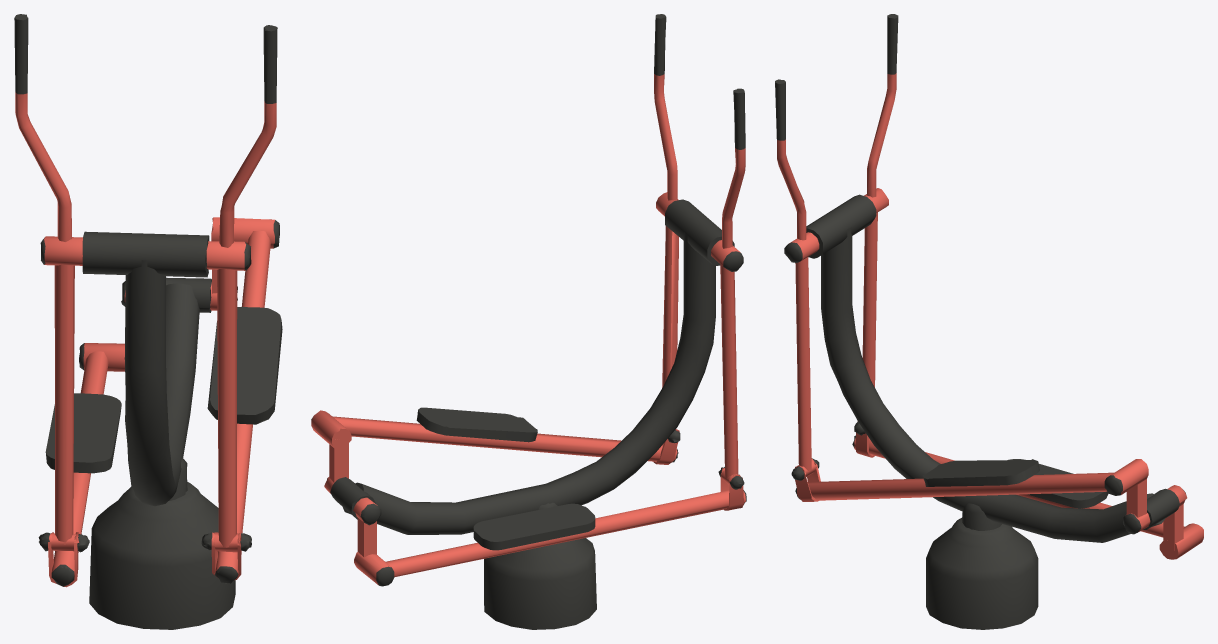
The model's file is тренажер3.glb.
The picture shows the model from 3 angles, left to right: view 1: azimuth 30°, elevation 25°; view 2: azimuth 150°, elevation 25°; view 3: azimuth 270°, elevation 25°; orthographic projection. The views are drawn at different scales.
Parts seen in each view (by area): view 1: SM_Aviomotornaya_ZU_5_Flora.005; view 2: SM_Aviomotornaya_ZU_5_Flora.005; view 3: SM_Aviomotornaya_ZU_5_Flora.005.
Part boxes in pixels (left/top/right/bottom): SM_Aviomotornaya_ZU_5_Flora.005: left=14, top=14, right=282, bottom=629; SM_Aviomotornaya_ZU_5_Flora.005: left=311, top=14, right=746, bottom=629; SM_Aviomotornaya_ZU_5_Flora.005: left=775, top=14, right=1203, bottom=629.
Size of the model in its own units: 0.9963 by 1.55 by 1.17.
Materials: 1 (1 with a texture image).
